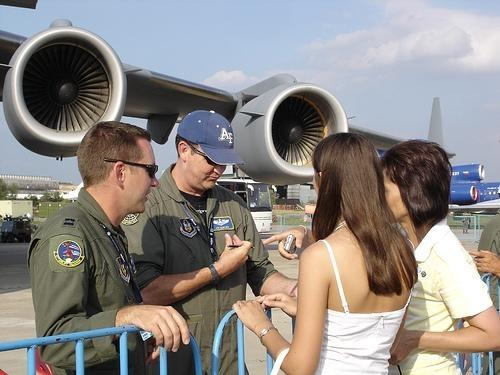bus: (217, 179, 278, 234)
